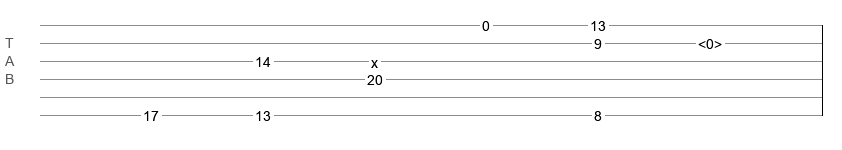0: (482, 18, 490, 28)
13: (255, 108, 271, 118), (590, 18, 606, 28)
14: (255, 54, 271, 64)
17: (143, 108, 159, 118)
20: (367, 72, 383, 82)
8: (594, 108, 602, 118)
9: (594, 36, 602, 46)
harmonic: (698, 36, 722, 46)
x: (371, 55, 378, 63)
